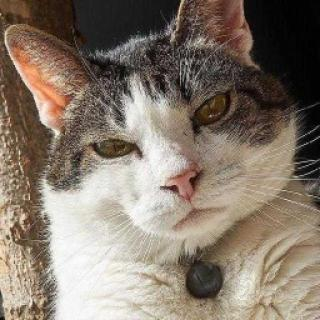cat: (12, 19, 306, 247)
nose: (154, 153, 206, 204)
